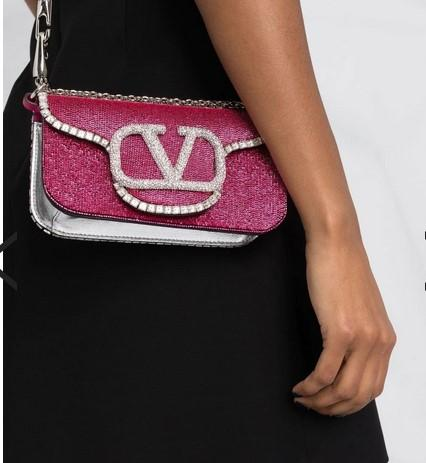VALENTINO: (110, 124, 227, 192)
